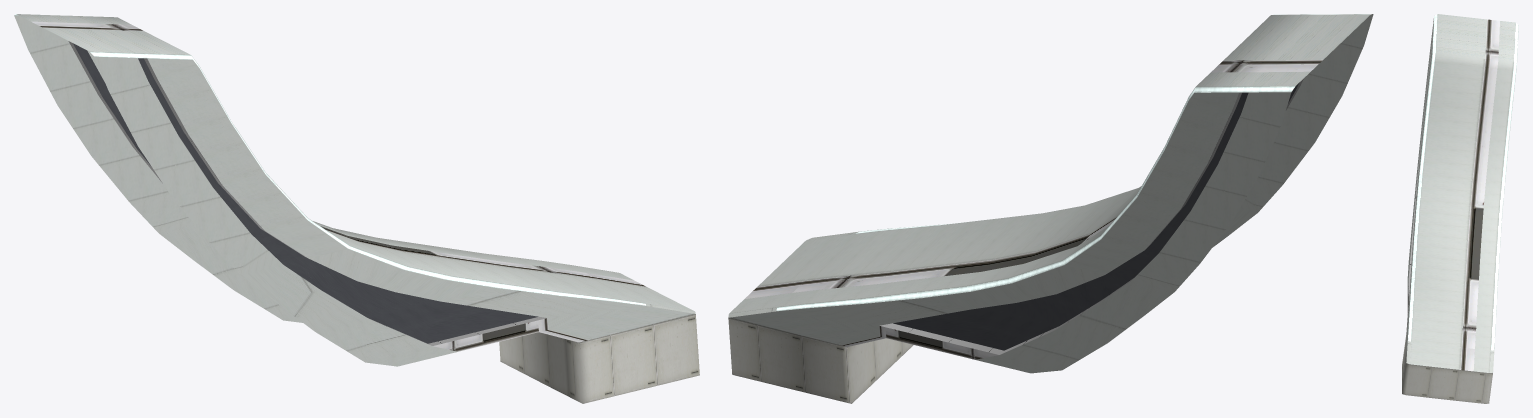
The model's file is STA20_oddCurve01.FBX.
The picture shows the model from 3 angles, left to right: view 1: azimuth 30°, elevation 25°; view 2: azimuth 150°, elevation 25°; view 3: azimuth 270°, elevation 25°; orthographic projection. The views are drawn at different scales.
Visible parts, largest first — view 1: STA20_oddCurve01; view 2: STA20_oddCurve01; view 3: STA20_oddCurve01.
Part boxes in pixels (x1=…): STA20_oddCurve01: x1=14, y1=14, x2=699, y2=403; STA20_oddCurve01: x1=728, y1=14, x2=1373, y2=403; STA20_oddCurve01: x1=1402, y1=14, x2=1518, y2=403.
Size of the model in its own units: 128 by 96.64 by 42.36.
